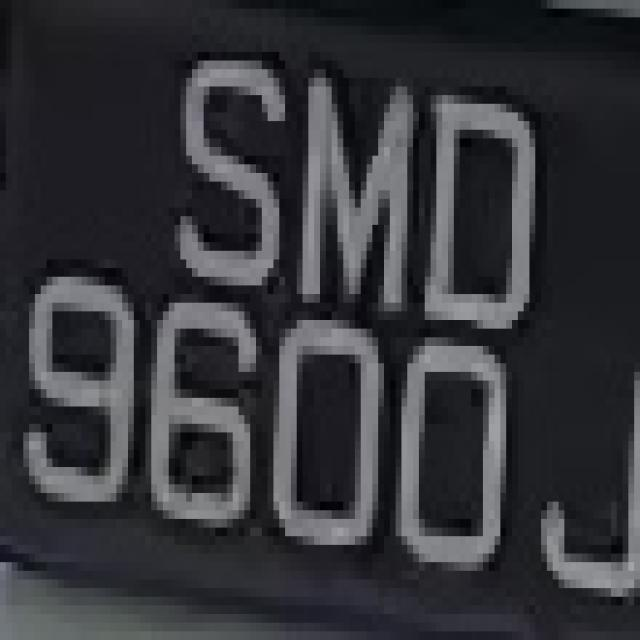0: (378, 320, 512, 579), (262, 328, 372, 580)
6: (110, 251, 274, 536)
9: (6, 242, 134, 545)
D: (431, 95, 541, 329)
J: (523, 371, 640, 605)
M: (279, 60, 419, 338)
S: (151, 17, 291, 303)
